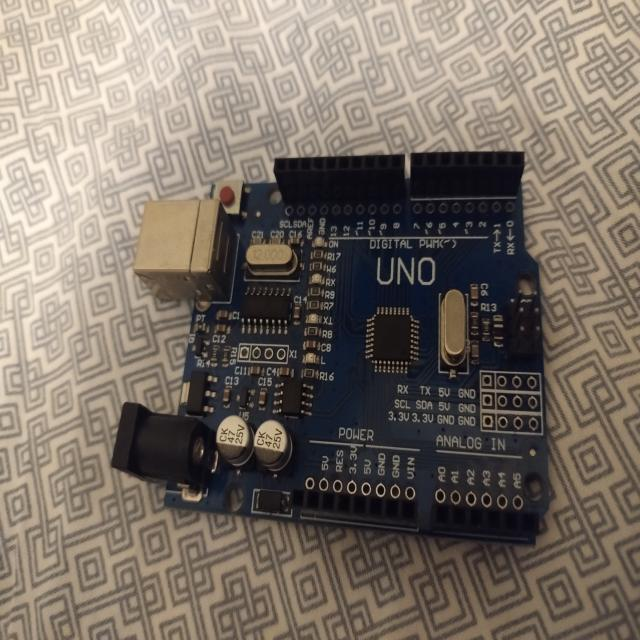arduino: (125, 147, 556, 548)
